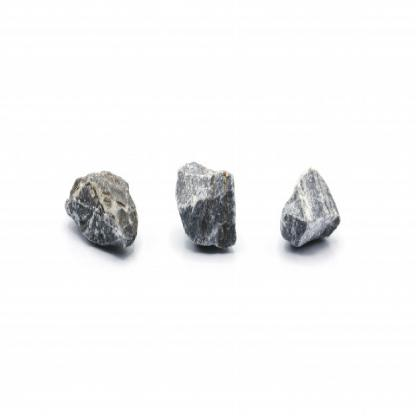Igneous_Basalt: (53, 152, 141, 260), (170, 161, 238, 262), (279, 160, 339, 263)
